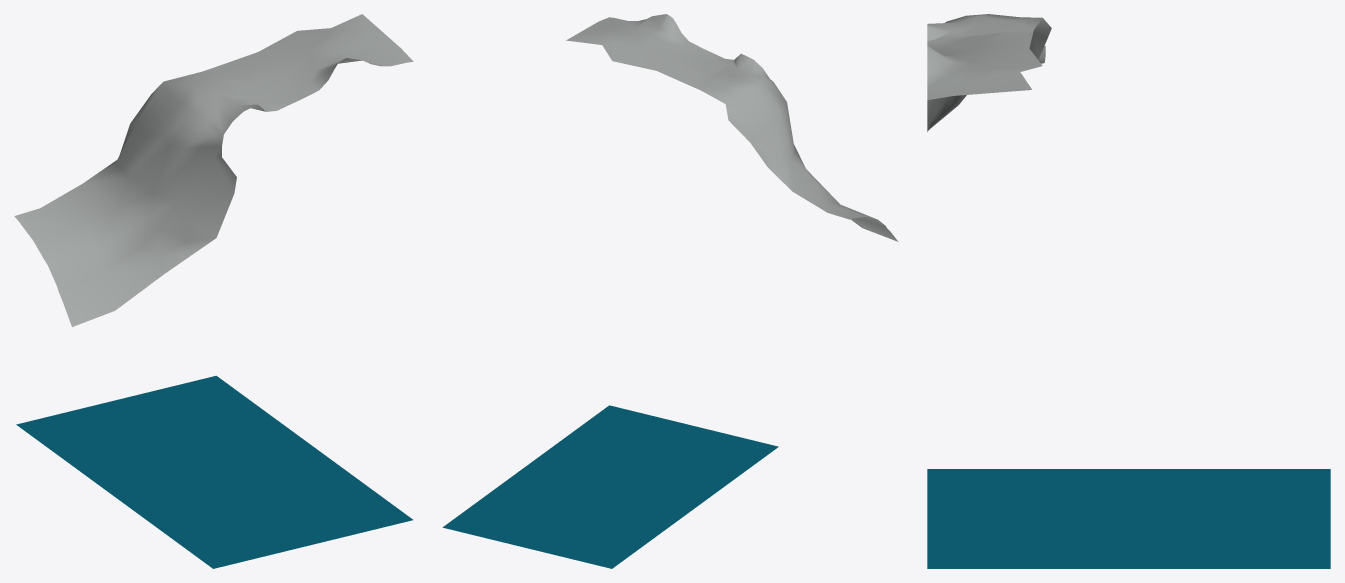
3 renders of one model, left to right at view 1: azimuth 30°, elevation 25°; view 2: azimuth 150°, elevation 25°; view 3: azimuth 270°, elevation 25°, orthographic. The views are drawn at different scales.
Visible parts, largest first — view 1: G:\FFXIV-MapTools\exports\s1f3\bg\ffxiv\sea_s1\fld\s1f3\bgpl (×6); view 2: G:\FFXIV-MapTools\exports\s1f3\bg\ffxiv\sea_s1\fld\s1f3\bgpl (×4); view 3: G:\FFXIV-MapTools\exports\s1f3\bg\ffxiv\sea_s1\fld\s1f3\bgpl (×4).
Boxes of the visible parts, x1,y1,x2,y2 form: G:\FFXIV-MapTools\exports\s1f3\bg\ffxiv\sea_s1\fld\s1f3\bgpl (×6): [14, 14, 413, 568]; G:\FFXIV-MapTools\exports\s1f3\bg\ffxiv\sea_s1\fld\s1f3\bgpl (×4): [442, 16, 898, 568]; G:\FFXIV-MapTools\exports\s1f3\bg\ffxiv\sea_s1\fld\s1f3\bgpl (×4): [927, 14, 1330, 568].
Bounding box in the file's own units: 128 × 171 × 128.
